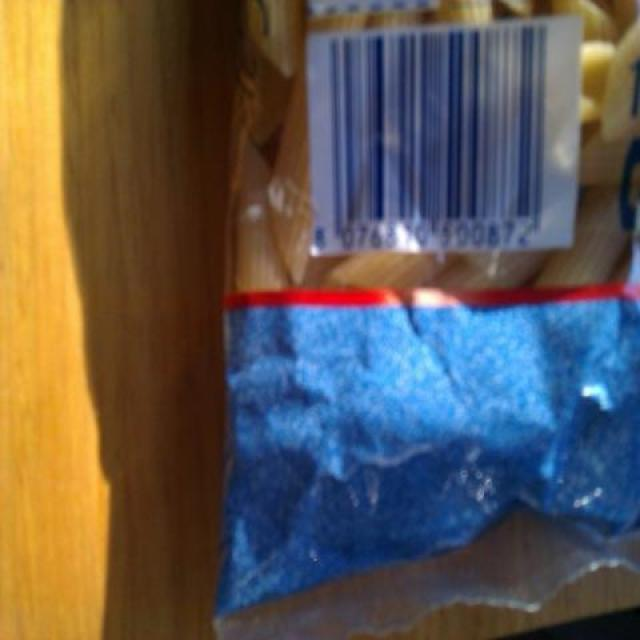Barcode: (306, 14, 583, 254)
